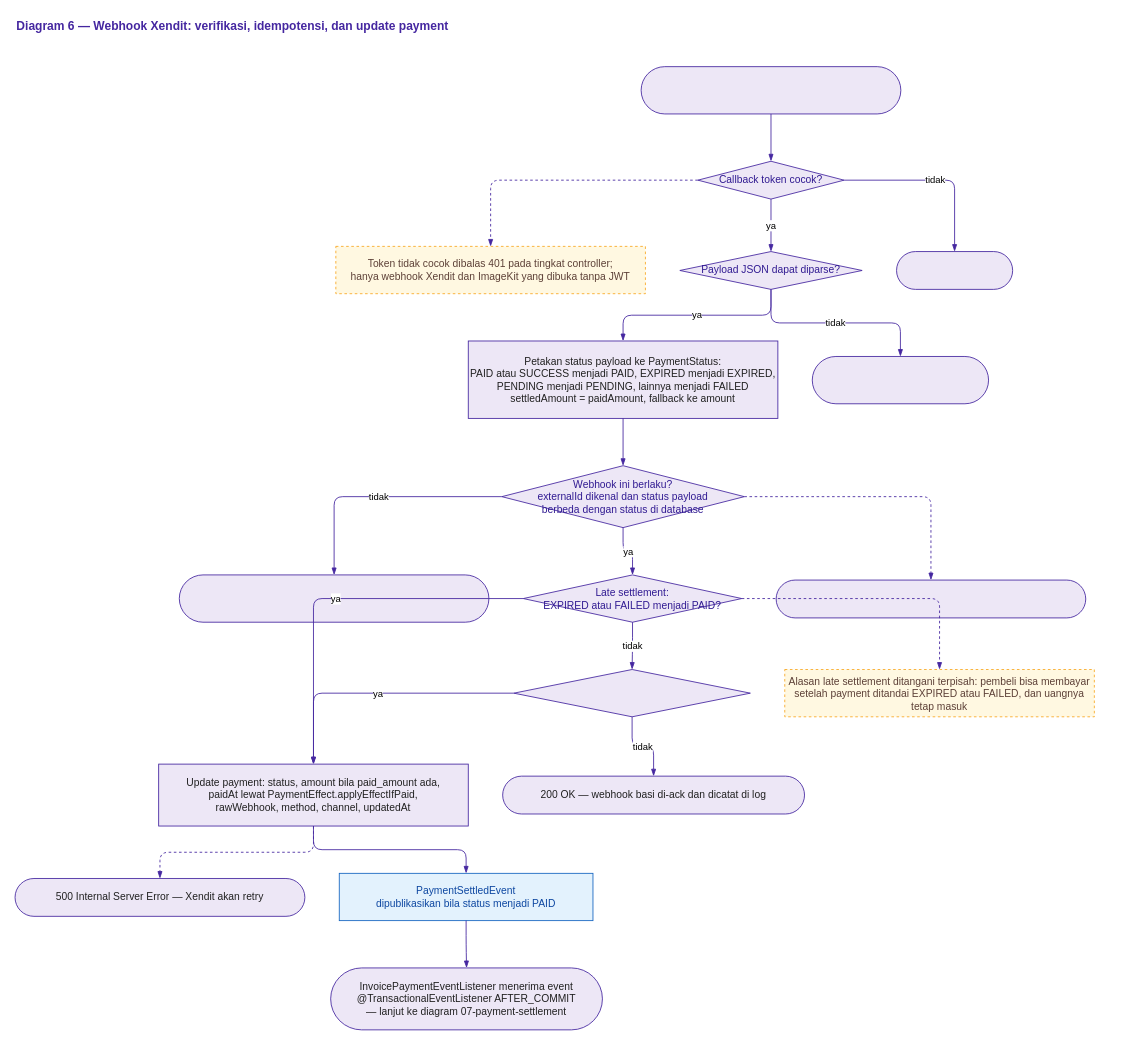
Image size: 1145x1045. Some labels were removed from this diagram. The shapes that lost their labels are listed below. From the top down, each one's centre as x and y in pixels, then its label:
At pixel 770 90: "POST /api/v1/payments/webhooks/xendit endpoint publik, header X-Callback-Token".
At pixel 954 270: "401 Unauthorized".
At pixel 900 380: "200 OK — di-ack tanpa efek retry Xendit berhenti".
At pixel 333 598: "200 OK — di-ack tanpa efek: externalId tidak dikenal atau redelivery status sama".
At pixel 930 598: "200 OK — BadRequestException di-ack agar Xendit berhenti retry".
At pixel 631 693: "PaymentStatusFlowPolicy.validateFlow transisi diizinkan?".
